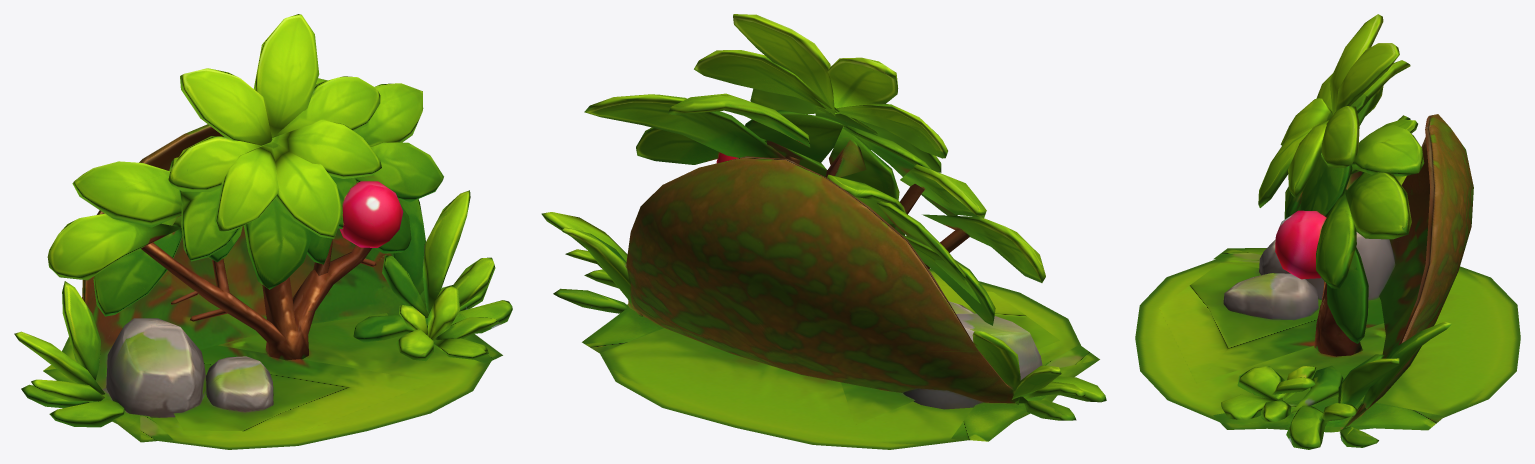
The model's file is etapa25.glb.
3 renders of one model, left to right at view 1: azimuth 30°, elevation 25°; view 2: azimuth 150°, elevation 25°; view 3: azimuth 270°, elevation 25°, orthographic. The views are drawn at different scales.
Size of the model in its own units: 1 by 0.6603 by 0.711.
1 material, 1 textured.
